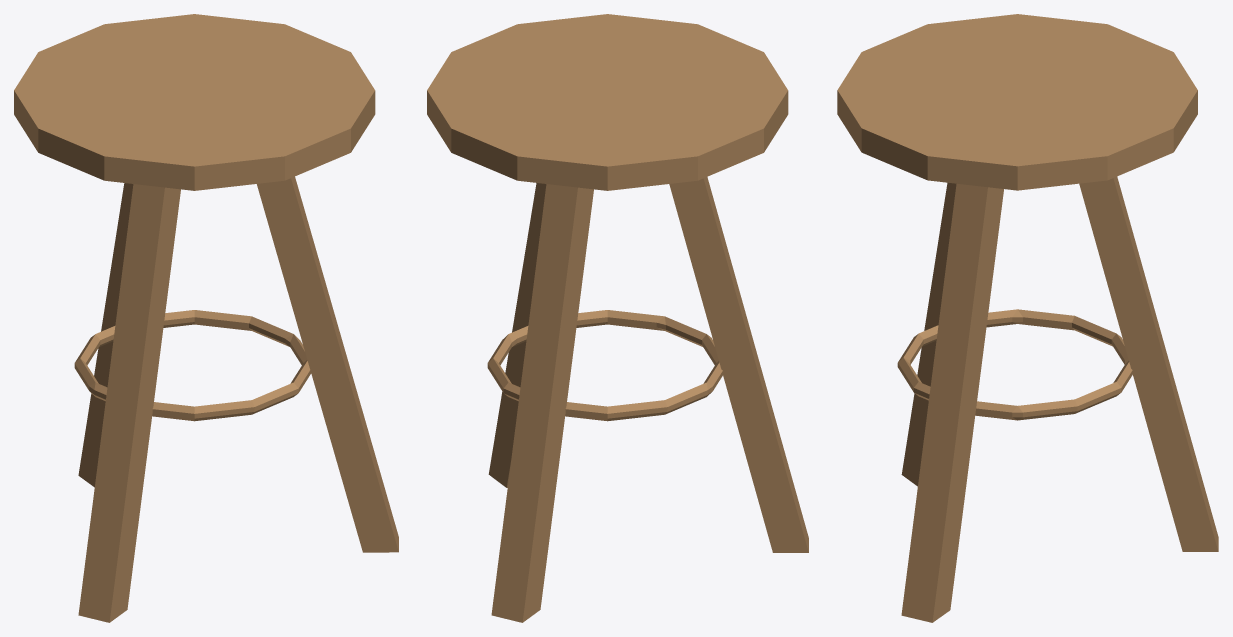
The model's file is RoundSideTable.fbx.
3 renders of one model, left to right at view 1: azimuth 30°, elevation 25°; view 2: azimuth 150°, elevation 25°; view 3: azimuth 270°, elevation 25°, orthographic.
Parts seen in each view (by area): view 1: RoundTopAndLegs; view 2: RoundTopAndLegs; view 3: RoundTopAndLegs.
Boxes of the visible parts, left/top/right/bottom form: RoundTopAndLegs: left=14, top=14, right=398, bottom=622; RoundTopAndLegs: left=427, top=14, right=808, bottom=622; RoundTopAndLegs: left=837, top=14, right=1218, bottom=622.
Size of the model in its own units: 50.78 by 69 by 52.42.
